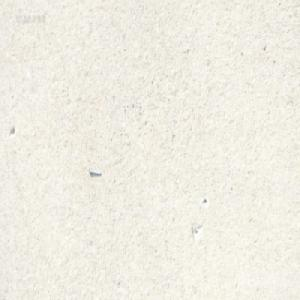Nail: (87, 165, 101, 175)
